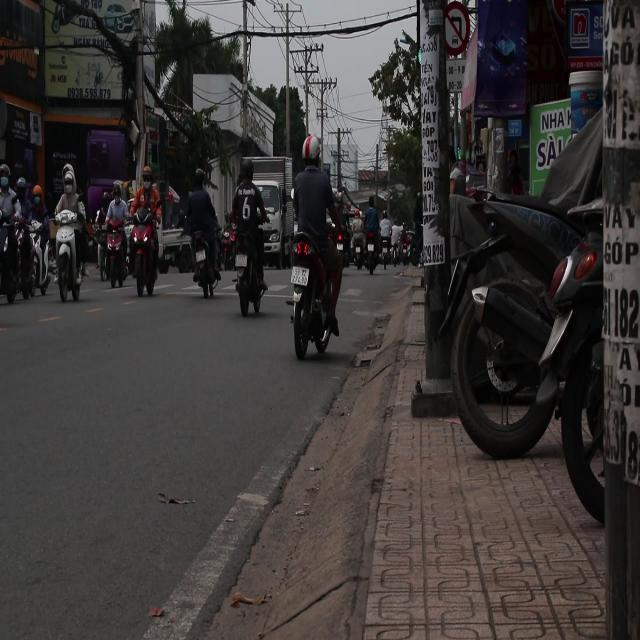motorbike: (174, 194, 238, 306), (228, 204, 268, 354), (289, 230, 333, 358), (50, 212, 91, 302), (0, 175, 24, 323), (127, 209, 160, 299), (18, 212, 51, 299), (98, 214, 133, 288)
truck: (245, 165, 291, 267)
